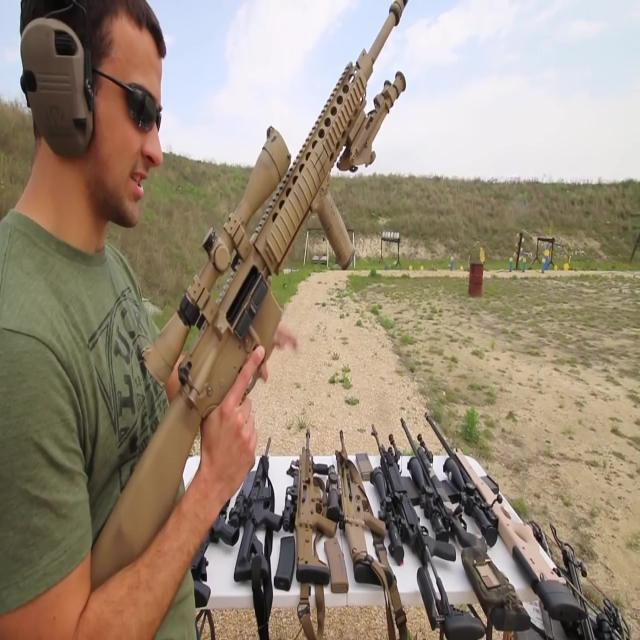Weapon: (87, 0, 416, 608), (140, 370, 608, 640)
